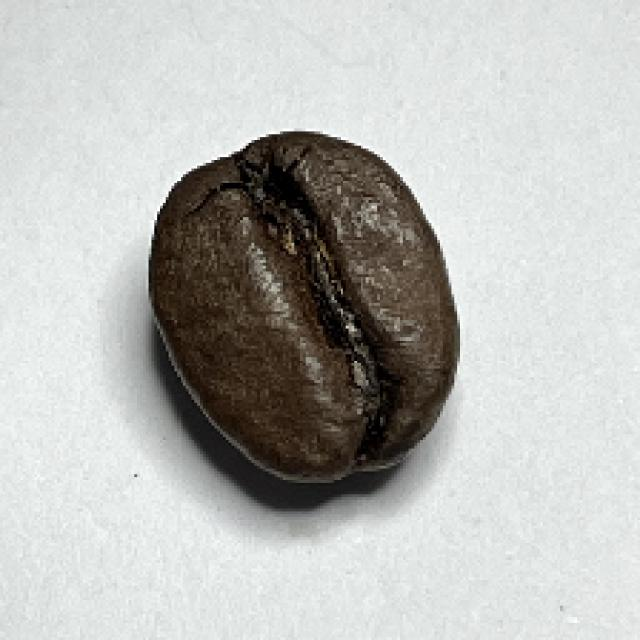bean: (146, 129, 464, 484)
